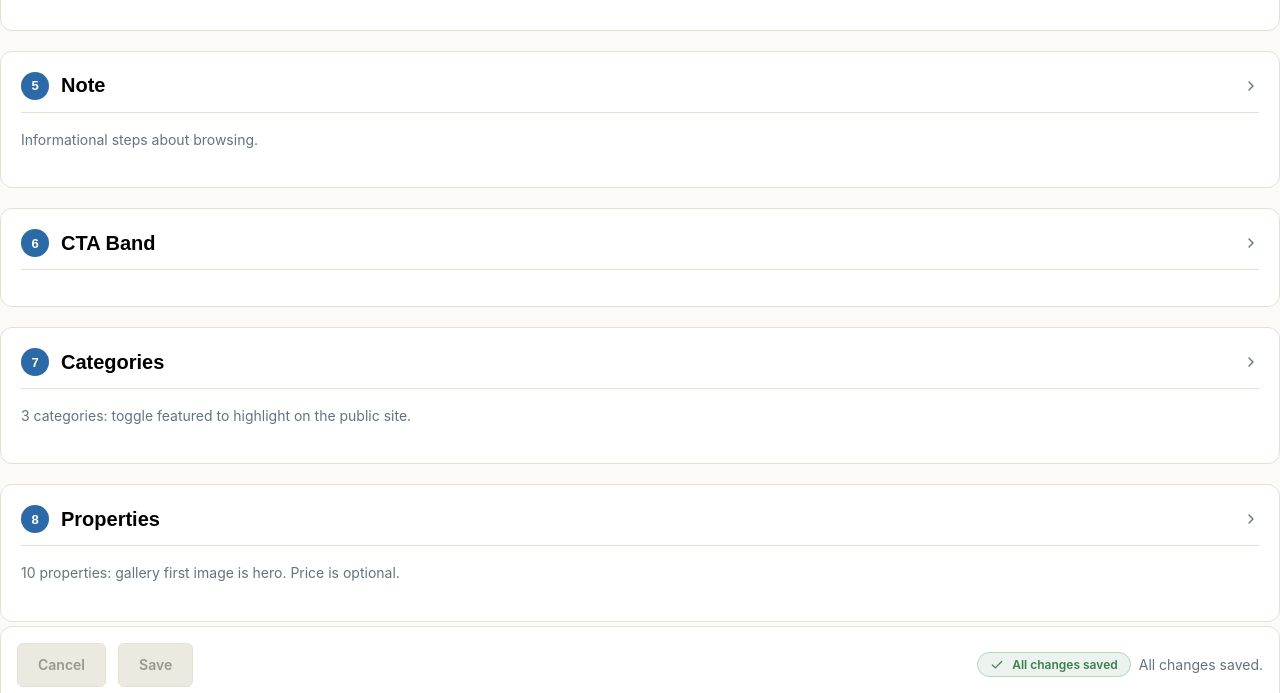
it: CmsPropertiesPage — Phase 3 Properties CMS › featured handling: derived first per category, not directly editable but reordering changes derived
The width and height of the screenshot is (1280, 693).
(page scrolled)
Click the button "7 Categories": [113, 362] box [21,348,1259,389]
(page scrolled)
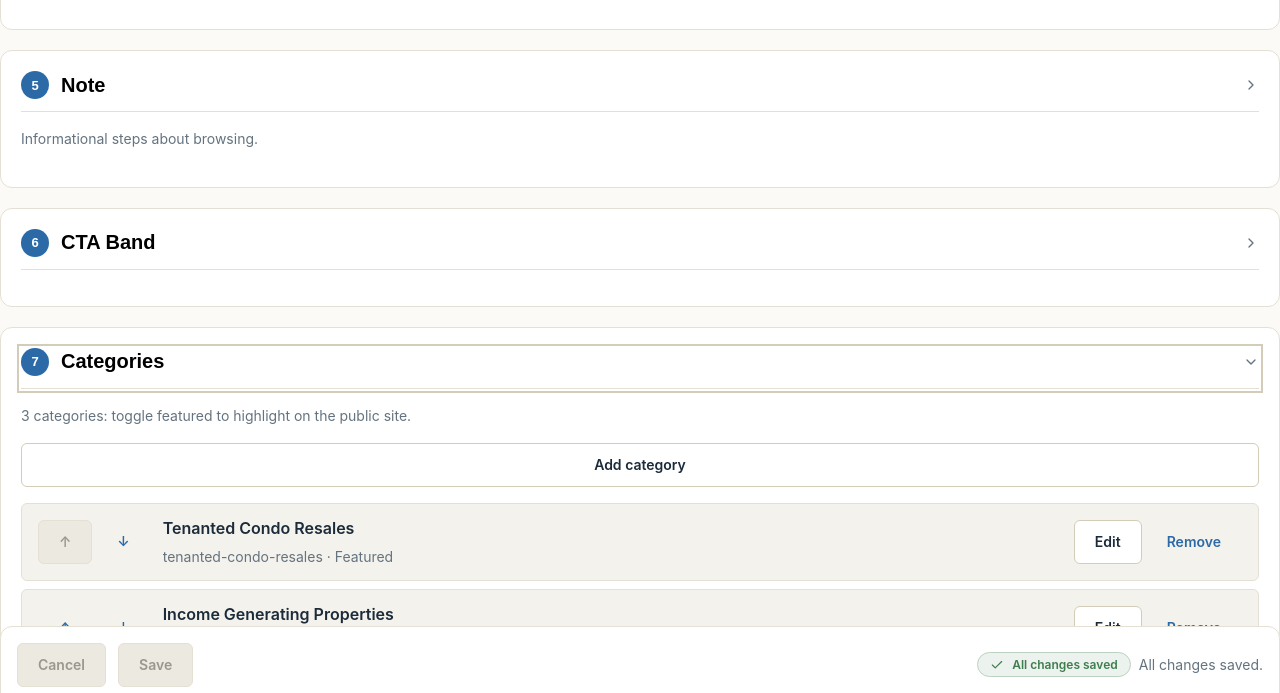
Click the button "Edit" in the row of "· Featured": [1108, 542] box [1074,520,1142,564]
(page scrolled)
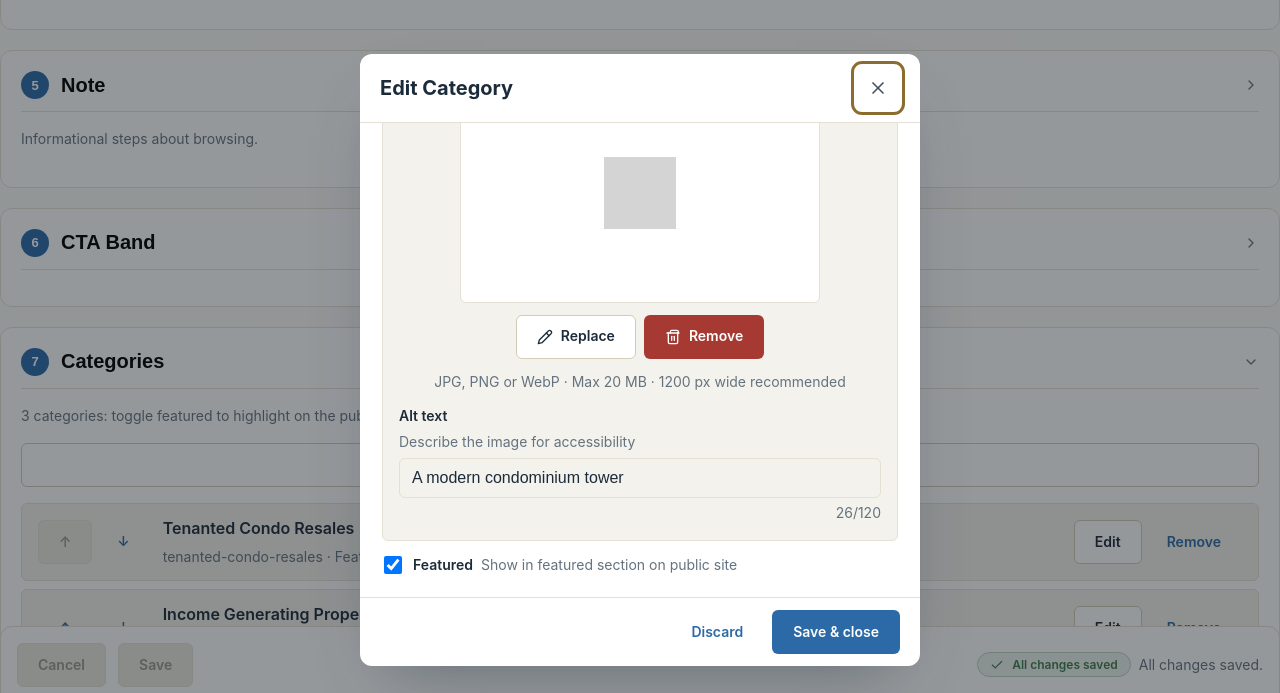
Check: the checkbox is shown, box [384,556,402,574]
